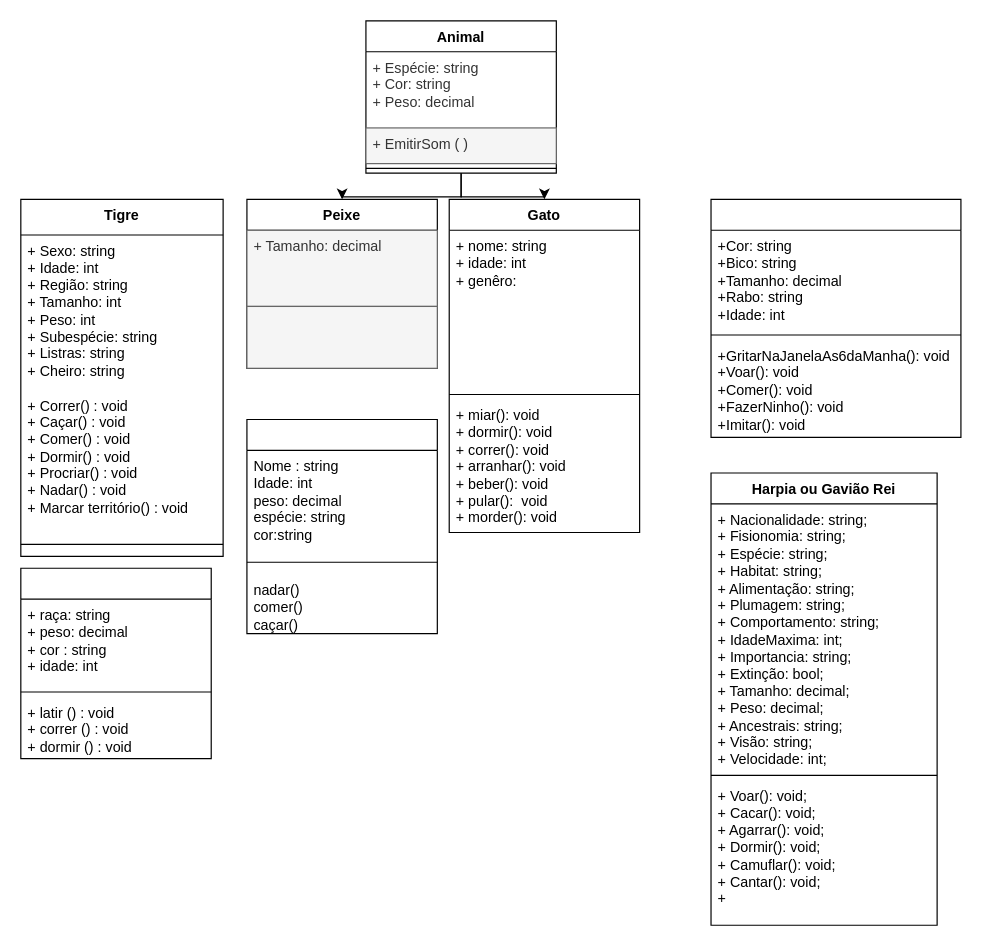
Image size: 982x950. Some labels were removed from this diagram. Each missing label, with the box of its shape:
+ Nadar(): vazio + Comer(): vazio + Respirar(): vazio: (246, 305, 437, 368)
Cachorro: (20, 567, 211, 759)
GOLFINHO: (246, 418, 437, 634)
Maritaca: (710, 198, 961, 437)
